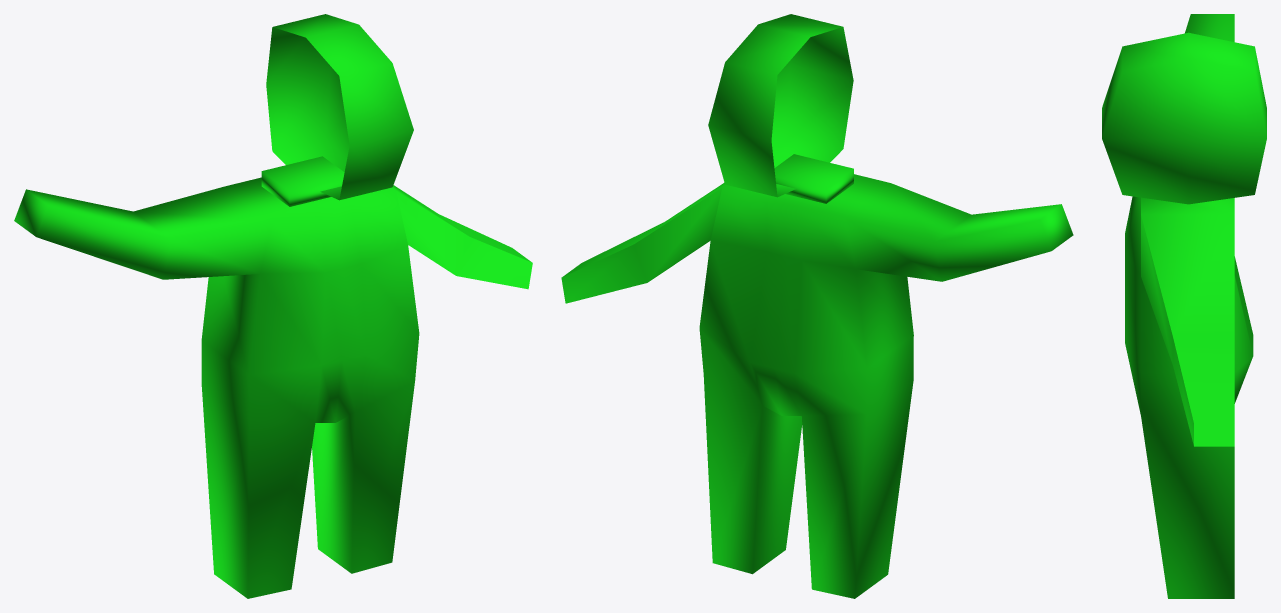
The model's file is asset.glb.
3 views of the same model, side by side, from view 1: azimuth 30°, elevation 25°; view 2: azimuth 150°, elevation 25°; view 3: azimuth 270°, elevation 25° (orthographic).
Visible parts, largest first — view 1: 立方体.001, 立方体, 立方体.002; view 2: 立方体.001, 立方体, 立方体.002; view 3: 立方体.001, 立方体.
Boxes of the visible parts, x1,y1,x2,y2 form: 立方体.001: [14, 177, 532, 598]; 立方体: [266, 14, 413, 200]; 立方体.002: [261, 156, 344, 206]; 立方体.001: [561, 174, 1073, 598]; 立方体: [708, 14, 853, 197]; 立方体.002: [774, 154, 853, 203]; 立方体.001: [1125, 14, 1253, 598]; 立方体: [1102, 32, 1266, 204].
Bounding box in the file's own units: 5.35 × 5.53 × 1.55.
